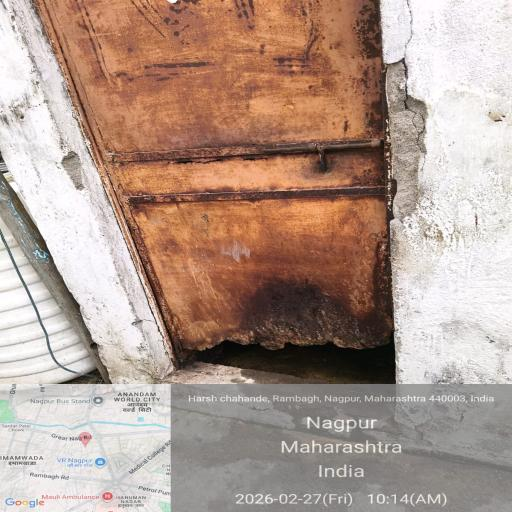dirty_floor: (43, 0, 472, 401)
